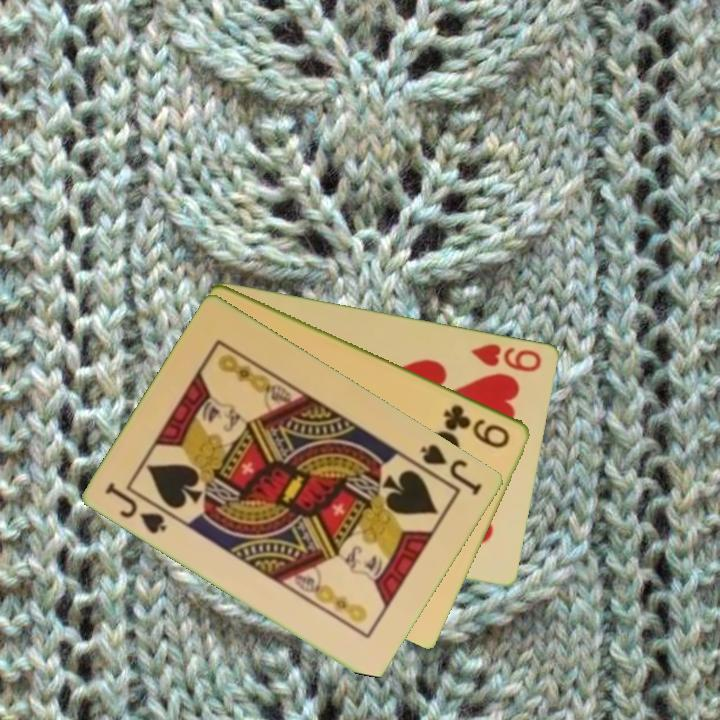9c: (440, 400, 514, 451)
9h: (467, 339, 545, 375)
Js: (102, 478, 177, 537), (417, 440, 486, 499)
